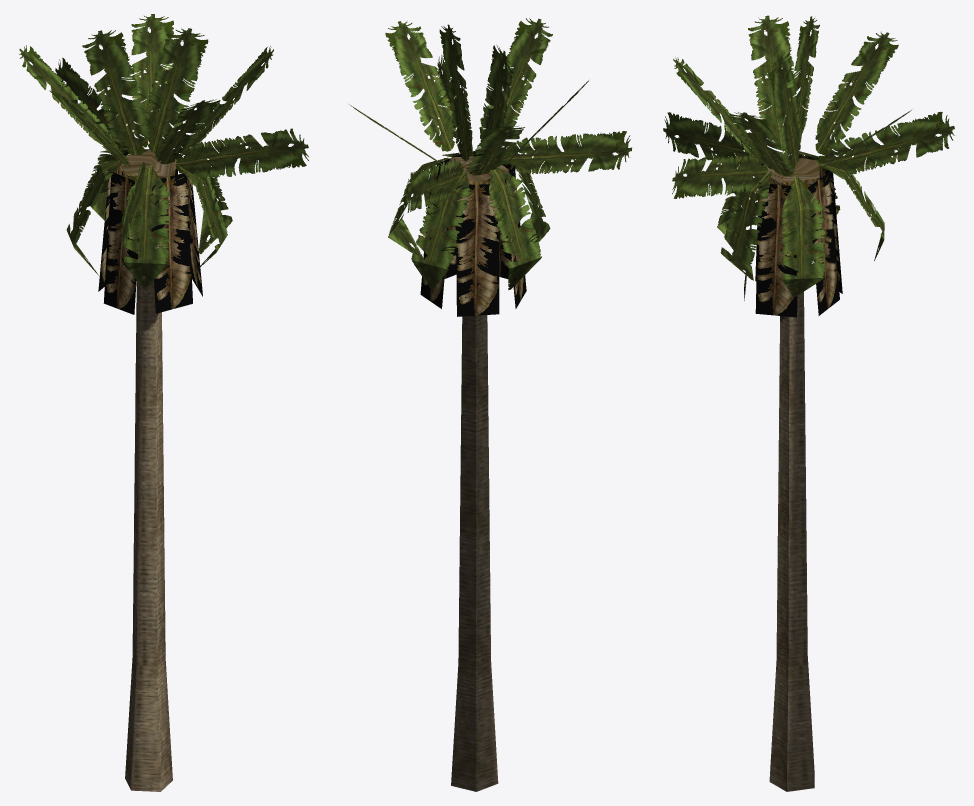
The model's file is CubanPalm.obj.
3 views of the same model, side by side, from view 1: azimuth 30°, elevation 25°; view 2: azimuth 150°, elevation 25°; view 3: azimuth 270°, elevation 25° (orthographic).
Visible parts, largest first — view 1: VCubanPalmB-00.VCubanPalmB-12_VCubanPalmB-00; view 2: VCubanPalmB-00.VCubanPalmB-12_VCubanPalmB-00; view 3: VCubanPalmB-00.VCubanPalmB-12_VCubanPalmB-00.
Boxes of the visible parts, x1=… form: VCubanPalmB-00.VCubanPalmB-12_VCubanPalmB-00: x1=19, y1=14, x2=308, y2=791; VCubanPalmB-00.VCubanPalmB-12_VCubanPalmB-00: x1=349, y1=18, x2=631, y2=791; VCubanPalmB-00.VCubanPalmB-12_VCubanPalmB-00: x1=663, y1=15, x2=954, y2=791.
Bounding box in the file's own units: 0.5916 × 2 × 0.7189.
4 materials, 4 textured.
